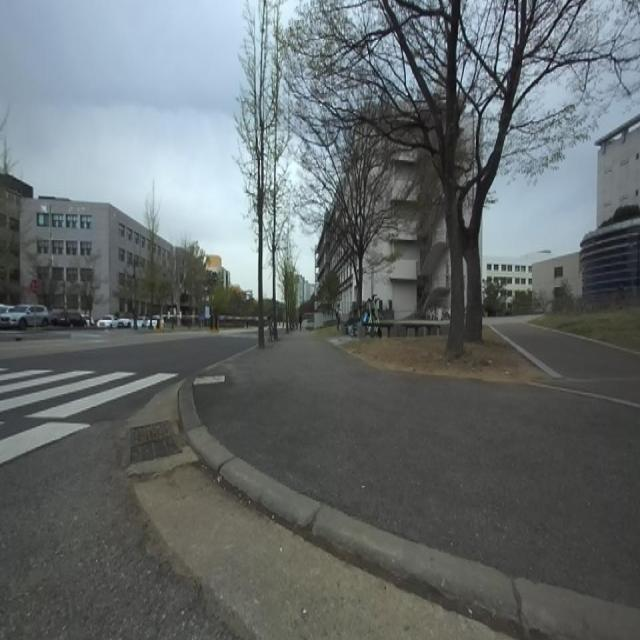sidewalk: (194, 335, 640, 606), (313, 505, 518, 622), (516, 579, 640, 640), (220, 458, 320, 528), (186, 426, 234, 471), (178, 380, 201, 432), (193, 376, 225, 384)
